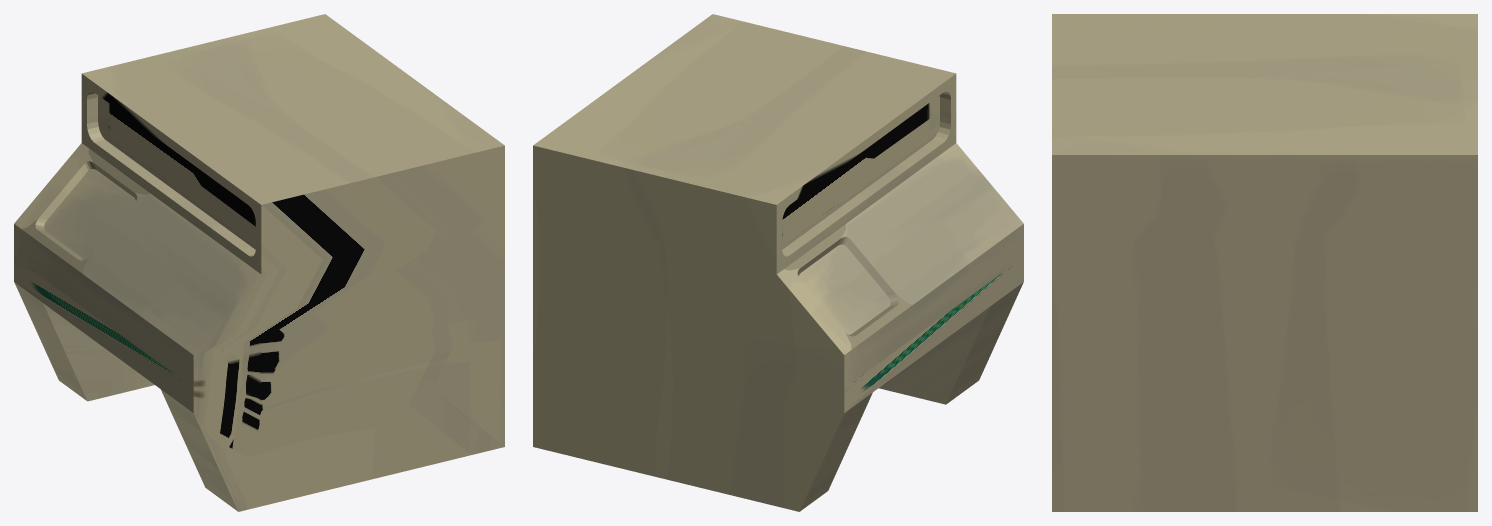
File: Computer-5.glb
The picture shows the model from 3 angles, left to right: view 1: azimuth 30°, elevation 25°; view 2: azimuth 150°, elevation 25°; view 3: azimuth 270°, elevation 25°; orthographic projection. The views are drawn at different scales.
Parts seen in each view (by area): view 1: Computer-1-col.004; view 2: Computer-1-col.004; view 3: Computer-1-col.004.
Boxes of the visible parts, x1,y1,x2,y2 form: Computer-1-col.004: (14,14,504,511); Computer-1-col.004: (533,14,1023,511); Computer-1-col.004: (1052,14,1477,511).
Bounding box in the file's own units: 0.5 × 0.4628 × 0.5.
1 material, 1 textured.
